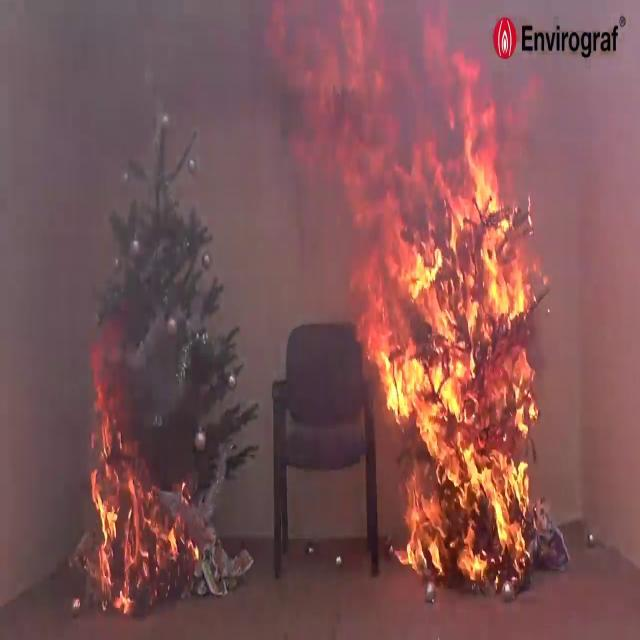Fire: (331, 5, 554, 572), (70, 356, 216, 626)
Smoke: (0, 0, 254, 414)
